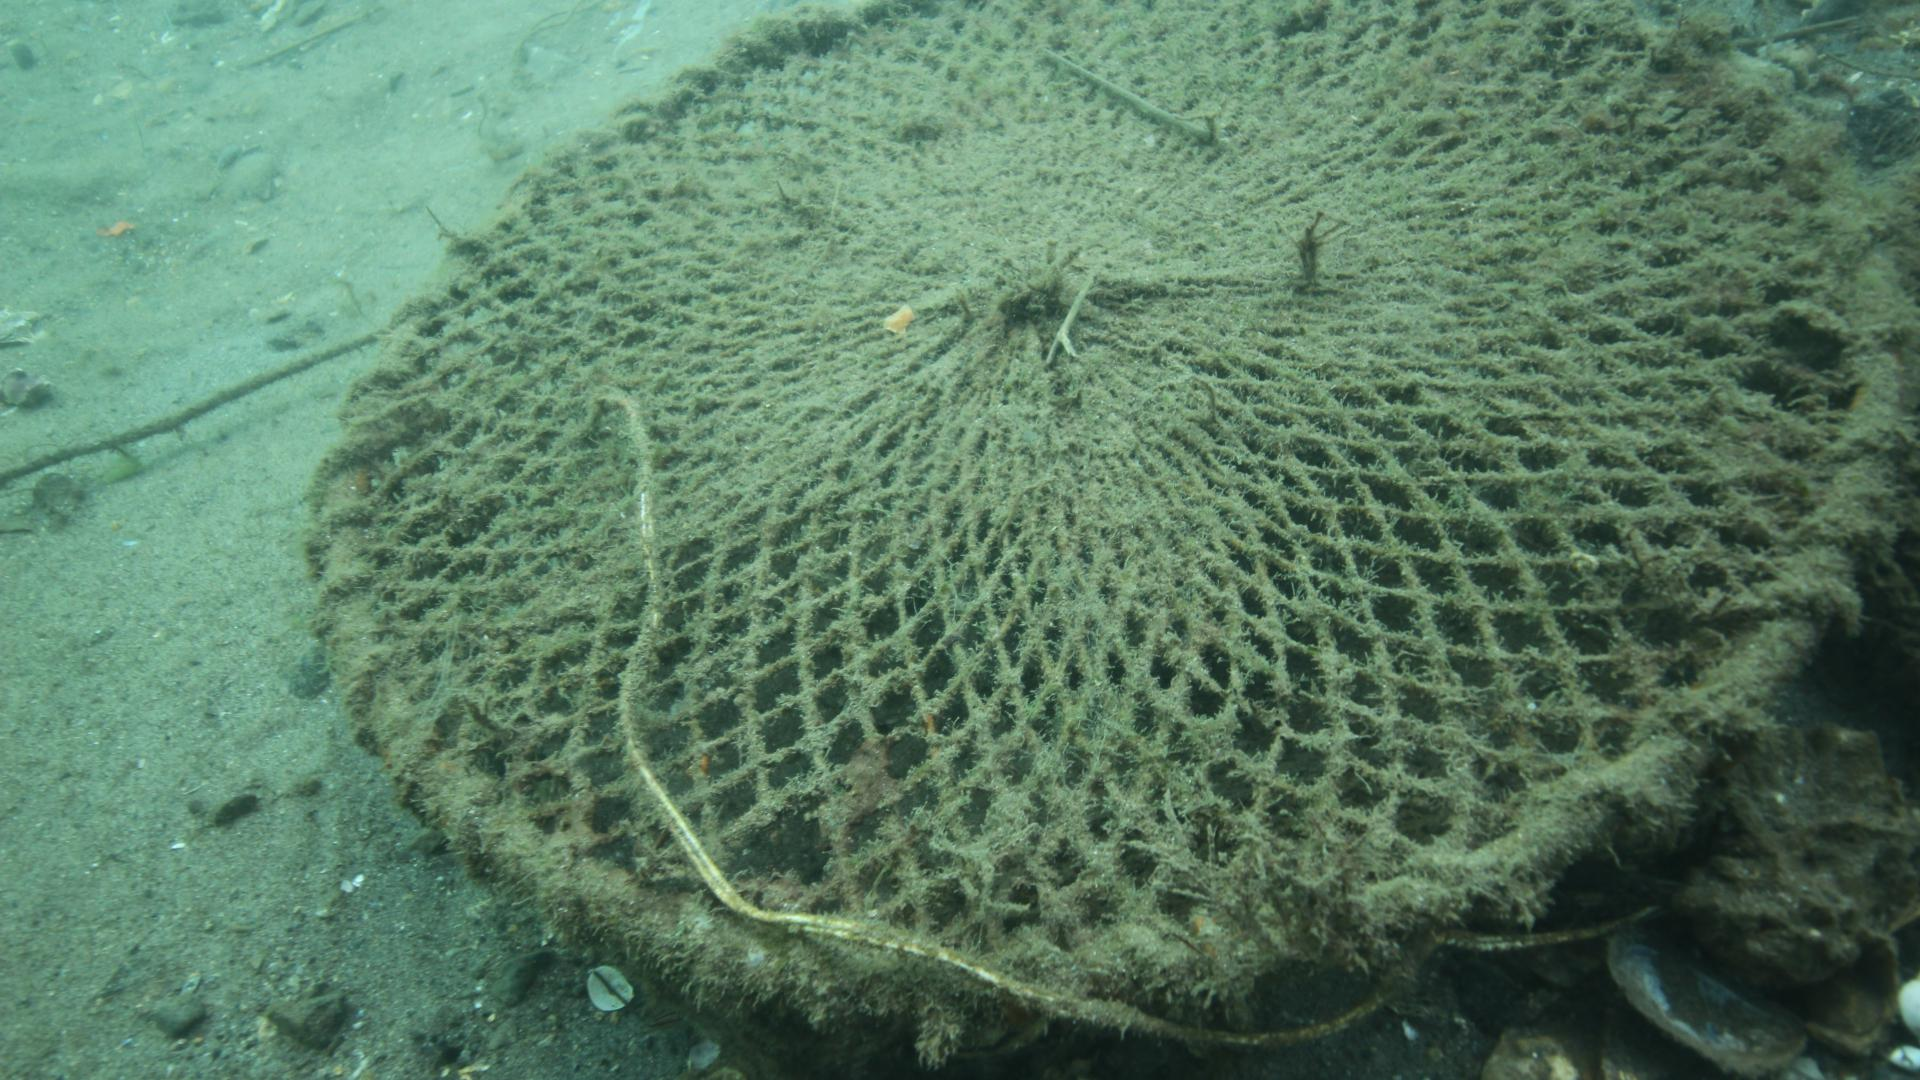circular fish trap: (294, 0, 1920, 1080)
